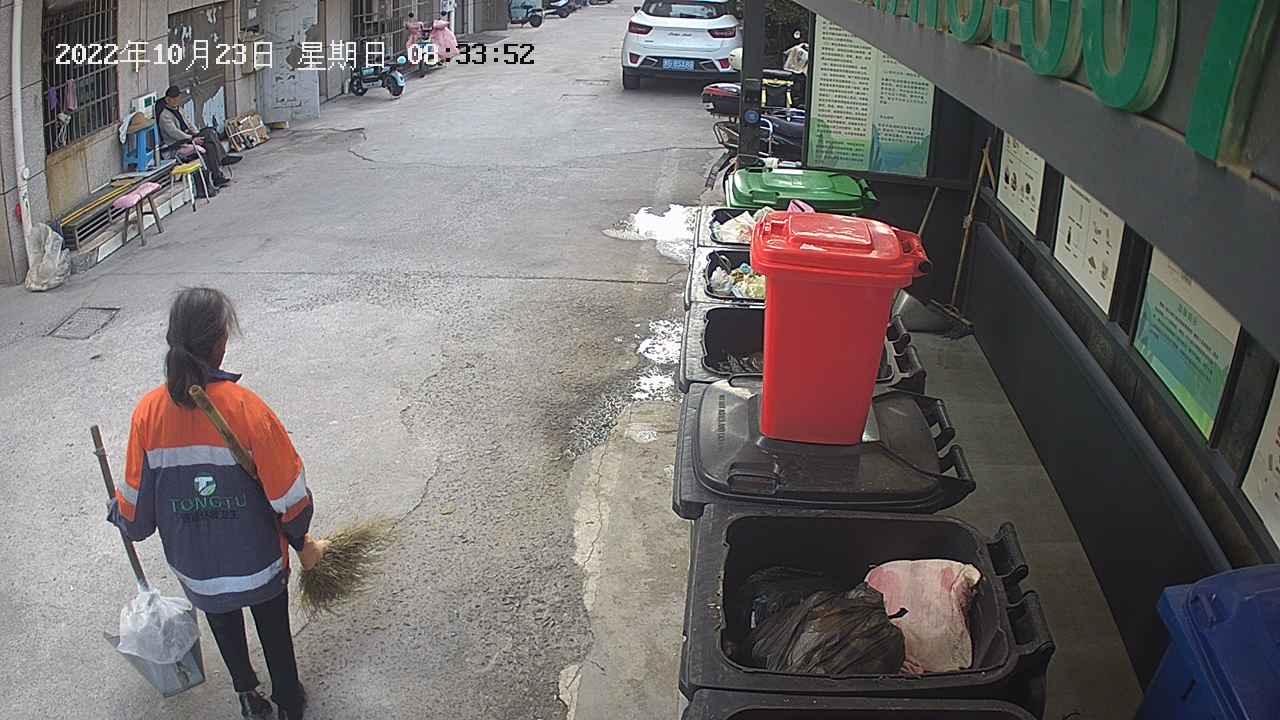worker: (102, 284, 317, 720)
